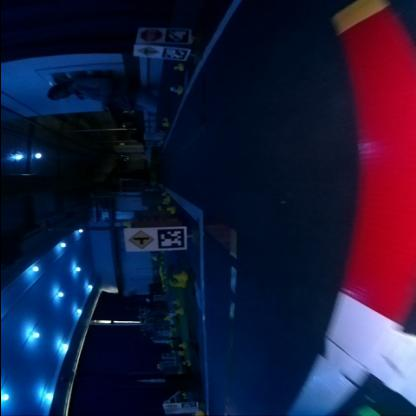Duckie: (170, 84, 180, 92), (173, 63, 180, 70), (174, 308, 182, 312), (166, 206, 172, 210), (180, 342, 184, 347)
Intersection sign: (128, 229, 152, 249), (134, 46, 156, 56)
QR code: (156, 227, 183, 247), (163, 30, 188, 42), (160, 48, 188, 58)
Stop sign: (138, 29, 160, 41)
